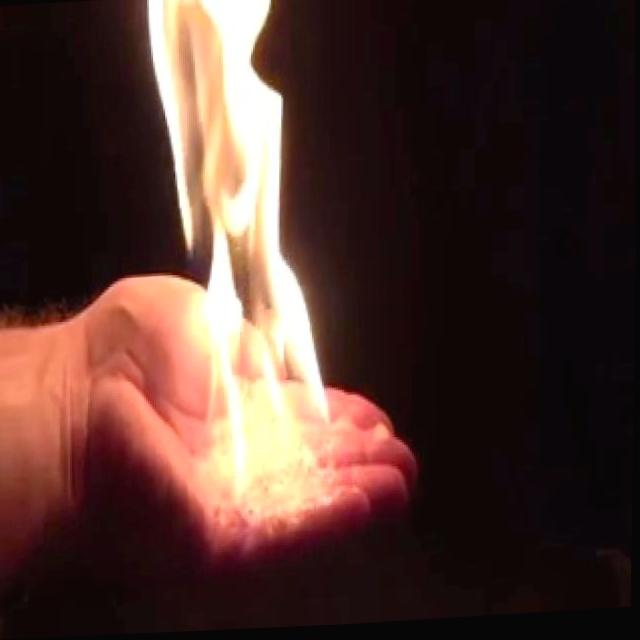helmet: (139, 0, 339, 510)
